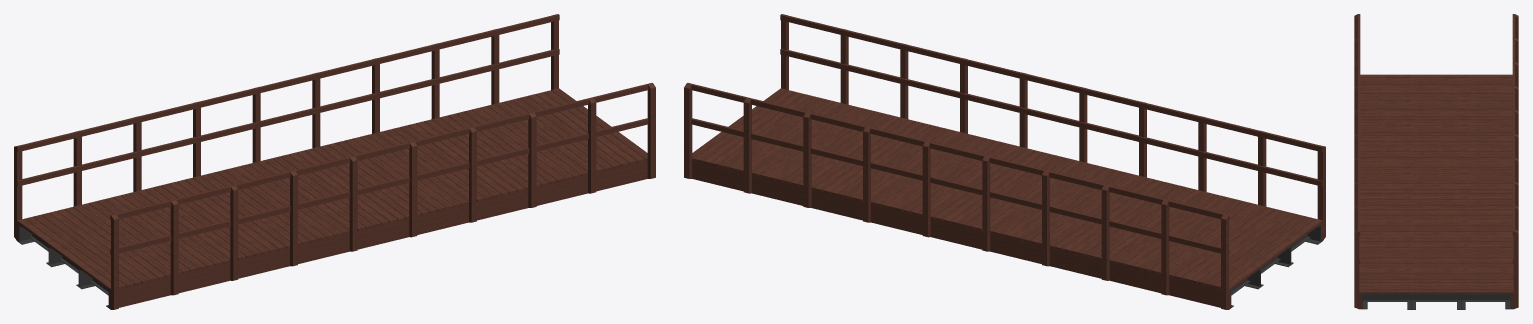
Rendered from Beam_TimberB.glb.
3 views of the same model, side by side, from view 1: azimuth 30°, elevation 25°; view 2: azimuth 150°, elevation 25°; view 3: azimuth 270°, elevation 25° (orthographic). The views are drawn at different scales.
Size of the model in its own units: 10 by 1.68 by 3.19.
Materials: 2 (1 with a texture image).
